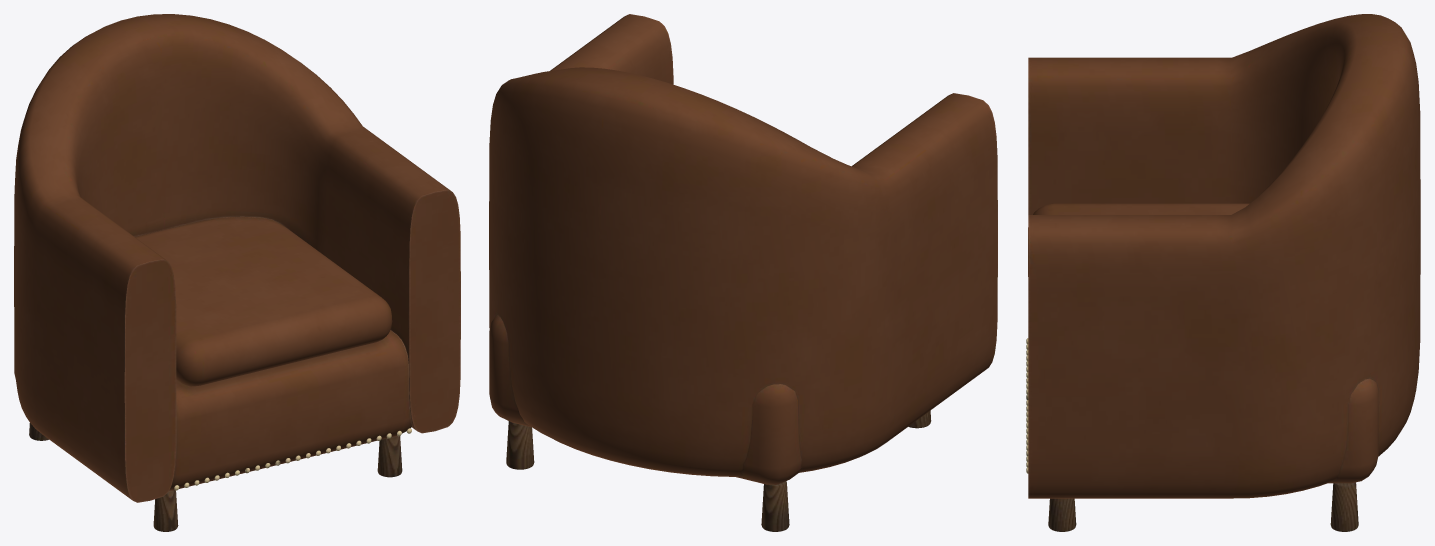
File: club_chair.glb
3 renders of one model, left to right at view 1: azimuth 30°, elevation 25°; view 2: azimuth 150°, elevation 25°; view 3: azimuth 270°, elevation 25°, orthographic. The views are drawn at different scales.
Parts seen in each view (by area): view 1: club_chair; view 2: club_chair; view 3: club_chair.
Boxes of the visible parts, left/top/right/bottom form: club_chair: left=14, top=14, right=460, bottom=531; club_chair: left=489, top=14, right=997, bottom=531; club_chair: left=1026, top=14, right=1420, bottom=531.
Size of the model in its own units: 0.78 by 0.8296 by 0.6982.
Materials: 1 (1 with a texture image).
